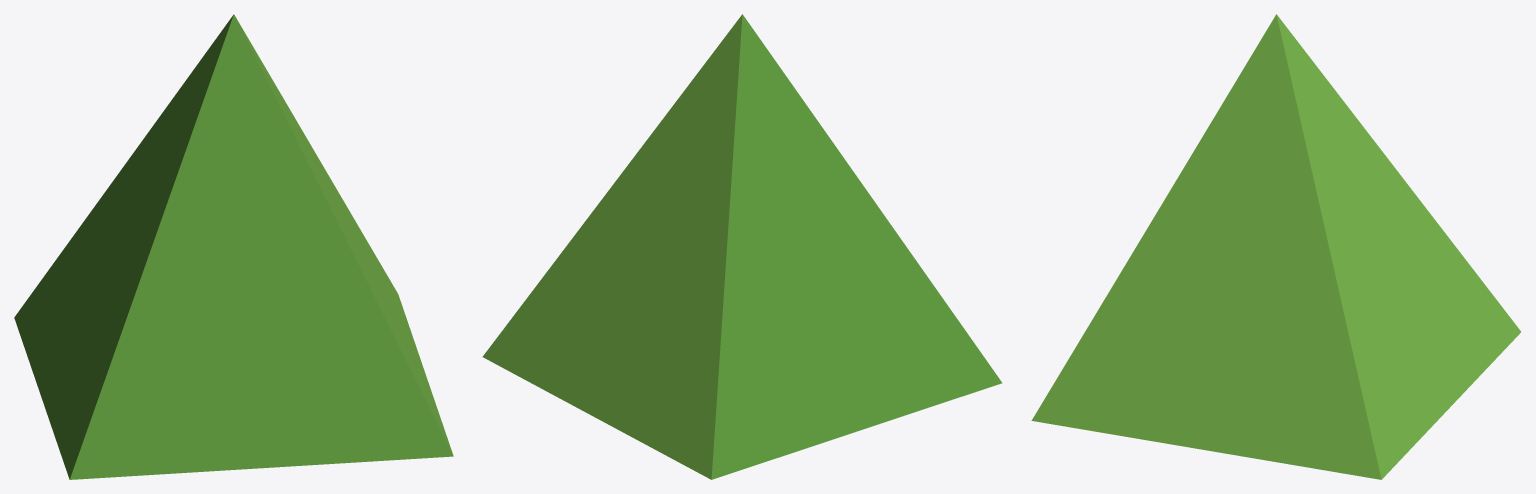
File: plant_bushTriangle.glb
The picture shows the model from 3 angles, left to right: view 1: azimuth 30°, elevation 25°; view 2: azimuth 150°, elevation 25°; view 3: azimuth 270°, elevation 25°; orthographic projection. The views are drawn at different scales.
Visible parts, largest first — view 1: plant_bushTriangle; view 2: plant_bushTriangle; view 3: plant_bushTriangle.
Boxes of the visible parts, x1=… form: plant_bushTriangle: x1=14, y1=14, x2=453, y2=479; plant_bushTriangle: x1=482, y1=14, x2=1002, y2=479; plant_bushTriangle: x1=1031, y1=14, x2=1520, y2=479.
Bounding box in the file's own units: 0.3676 × 0.3 × 0.3676.
1 material, 1 textured.
